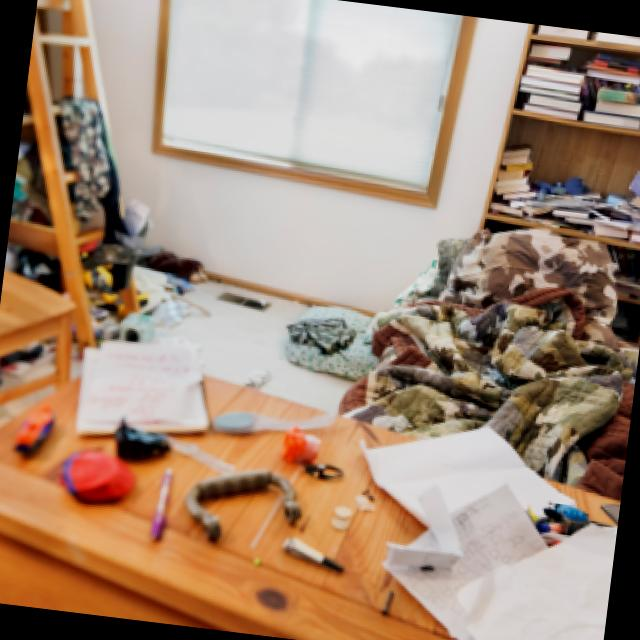mess: (0, 342, 630, 640), (0, 154, 397, 398), (449, 19, 640, 402), (1, 0, 208, 309)
